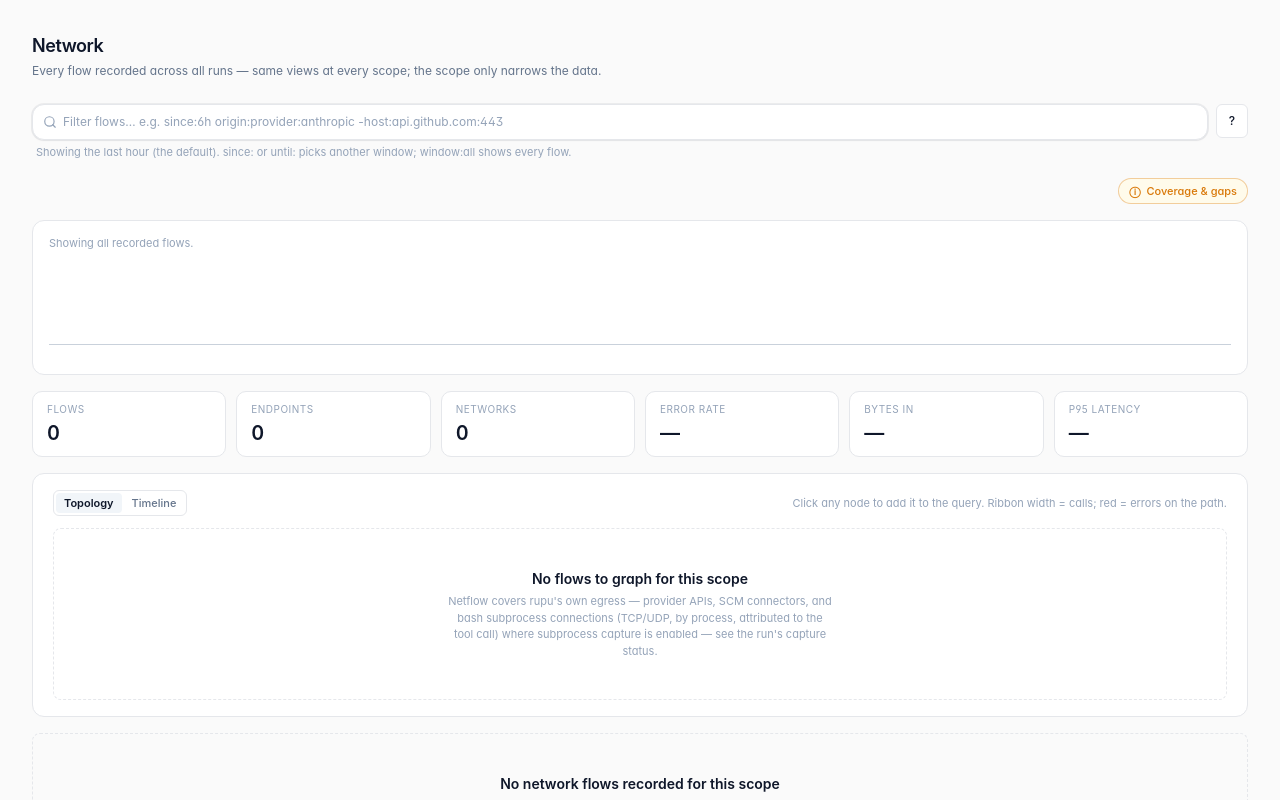
Netflow global page › surfaces the scope disclosure through the coverage popover
Click the button "ⓘ Coverage & gaps": coordinates (1183, 191) [1118,178,1248,204]
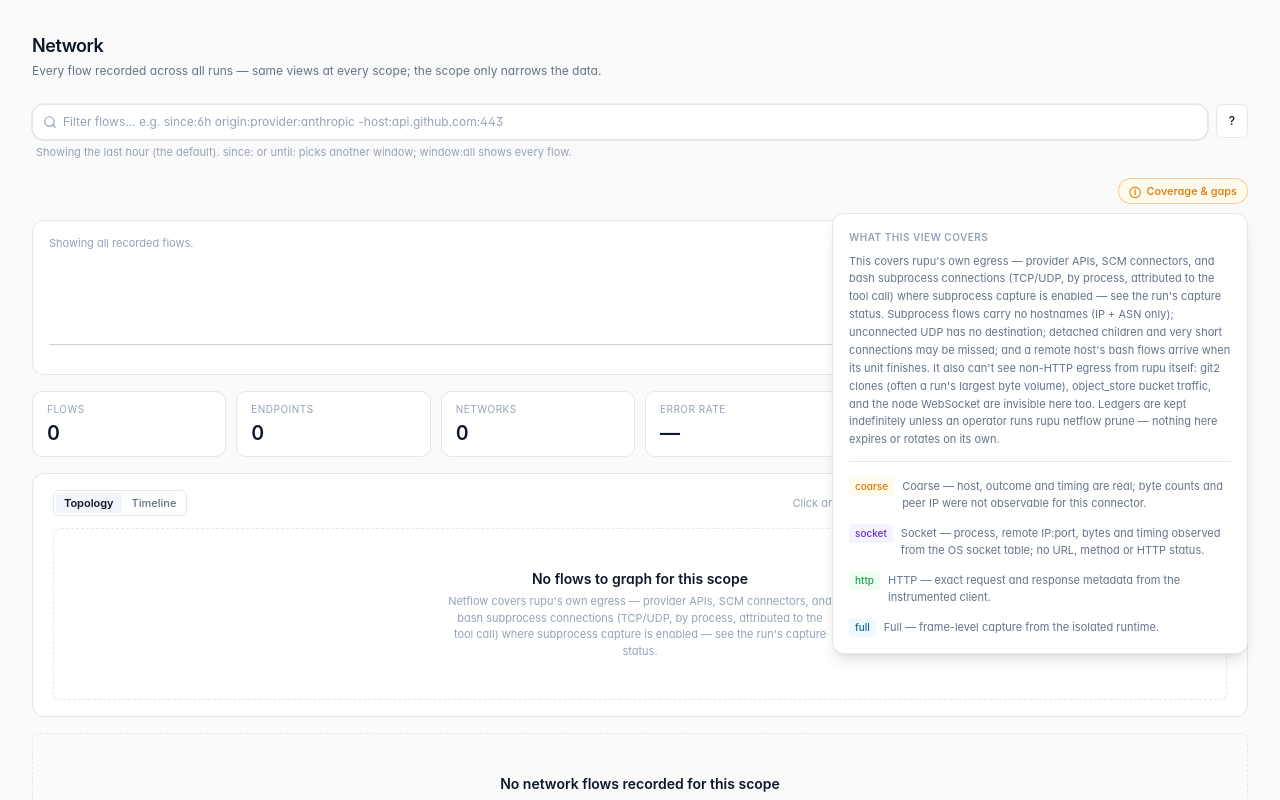
expect the text "rupu's own egress" is shown: met, box [849,254,1230,446]
